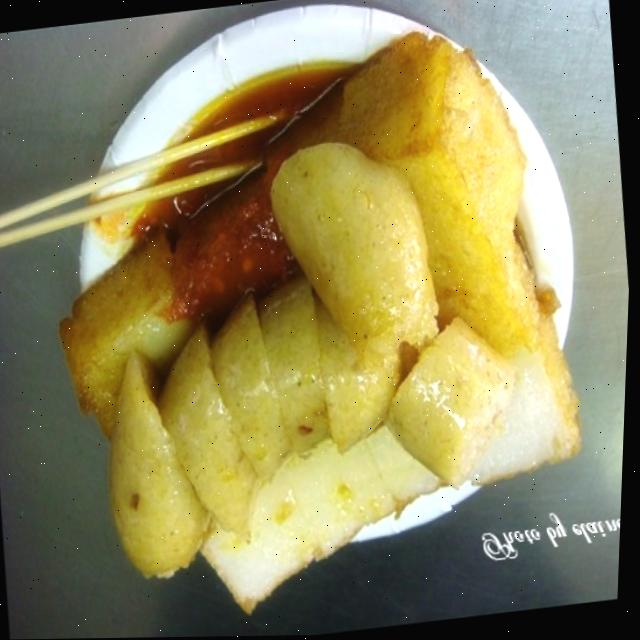蛋糕甜品: (27, 8, 638, 621)
